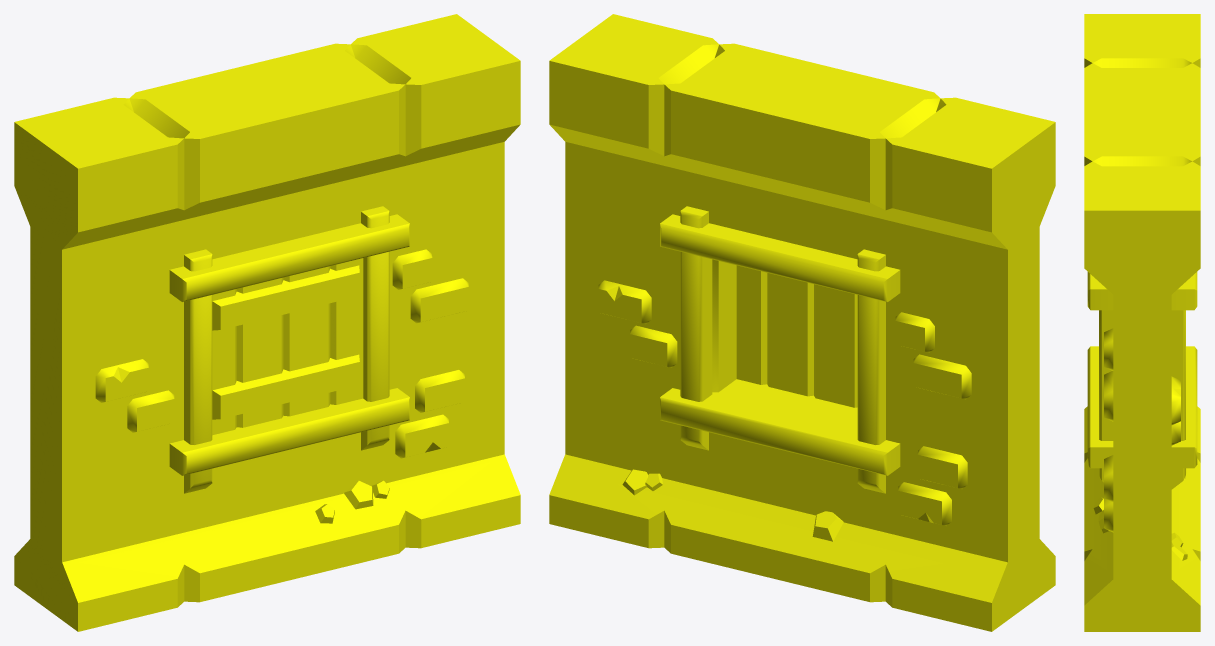
Rendered from kaykit-wall-window-closed.glb.
3 renders of one model, left to right at view 1: azimuth 30°, elevation 25°; view 2: azimuth 150°, elevation 25°; view 3: azimuth 270°, elevation 25°, orthographic. The views are drawn at different scales.
Visible parts, largest first — view 1: wall_window_closed; view 2: wall_window_closed; view 3: wall_window_closed.
Part boxes in pixels (x1,y1,x2,y2): wall_window_closed: (14,14,520,631); wall_window_closed: (549,14,1055,631); wall_window_closed: (1084,14,1200,631).
Size of the model in its own units: 4 by 4 by 1.
